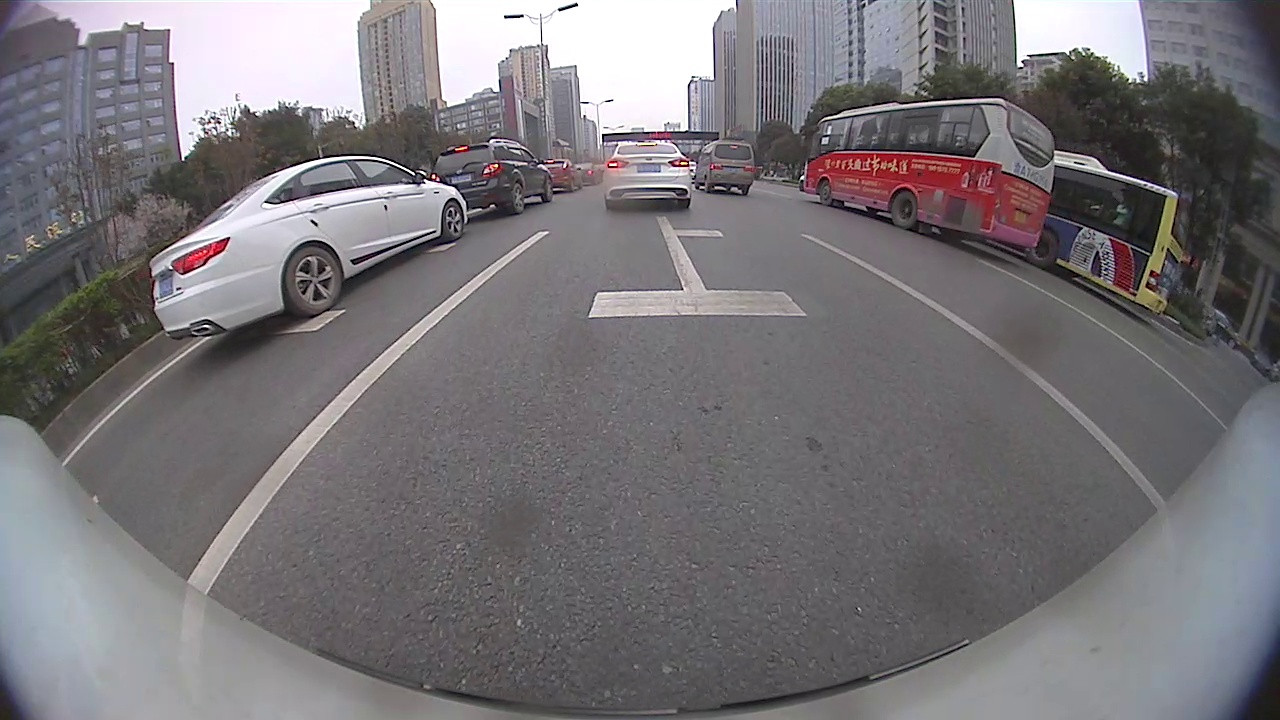bus: (800, 96, 1055, 251), (1040, 150, 1184, 315)
car: (146, 152, 471, 340), (433, 137, 557, 215), (603, 140, 691, 210), (695, 140, 758, 196), (545, 159, 583, 193)
front: (442, 201, 469, 242), (818, 181, 836, 206), (543, 180, 553, 202)
rear: (285, 251, 342, 315), (1025, 229, 1057, 266), (890, 188, 916, 228), (509, 182, 524, 214)
